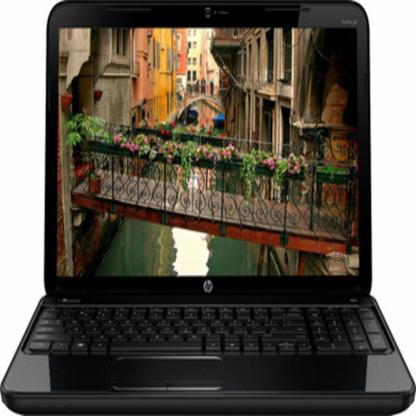board: (0, 11, 409, 405)
